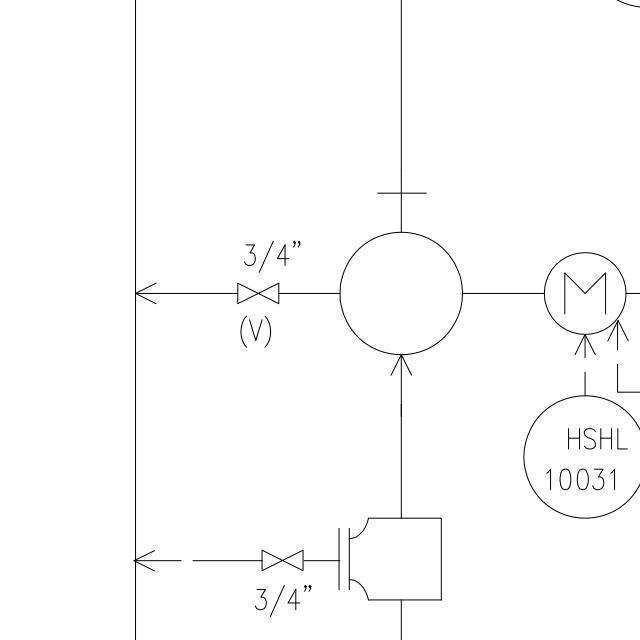GV: (231, 278, 283, 306), (257, 547, 309, 575)
M: (541, 249, 626, 338)
